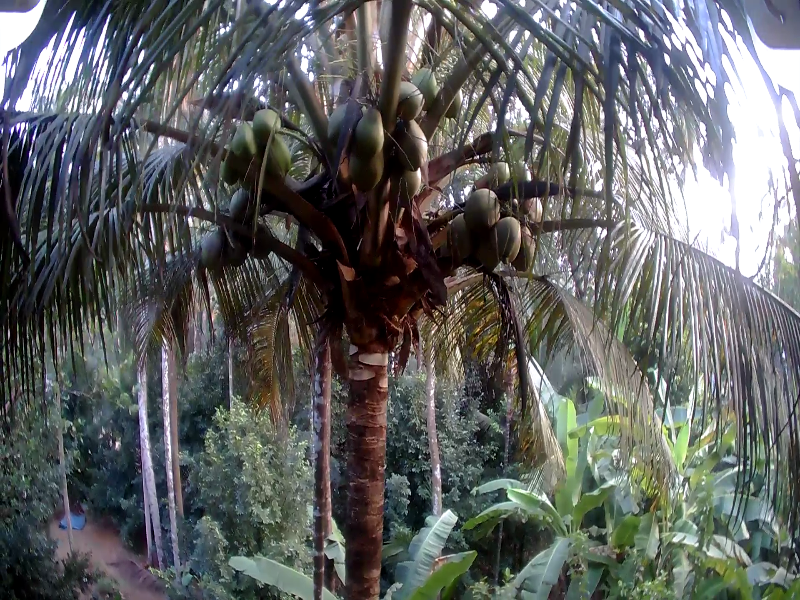coconut: (388, 121, 428, 168), (324, 103, 360, 142), (462, 184, 494, 225), (504, 229, 534, 271), (260, 140, 294, 177), (389, 163, 423, 200), (198, 224, 224, 267), (356, 109, 383, 149), (221, 185, 247, 225), (235, 124, 260, 160), (391, 82, 425, 108), (411, 63, 437, 97), (520, 188, 546, 222), (438, 81, 460, 120), (490, 218, 521, 244), (255, 111, 282, 140), (344, 144, 367, 177), (487, 159, 512, 184), (508, 151, 526, 181)
